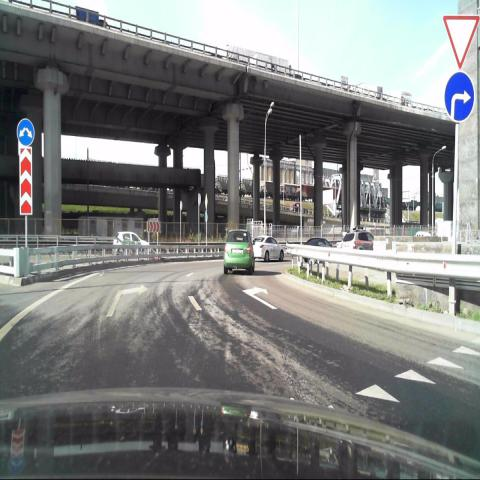4_1_2: (444, 67, 476, 124)
